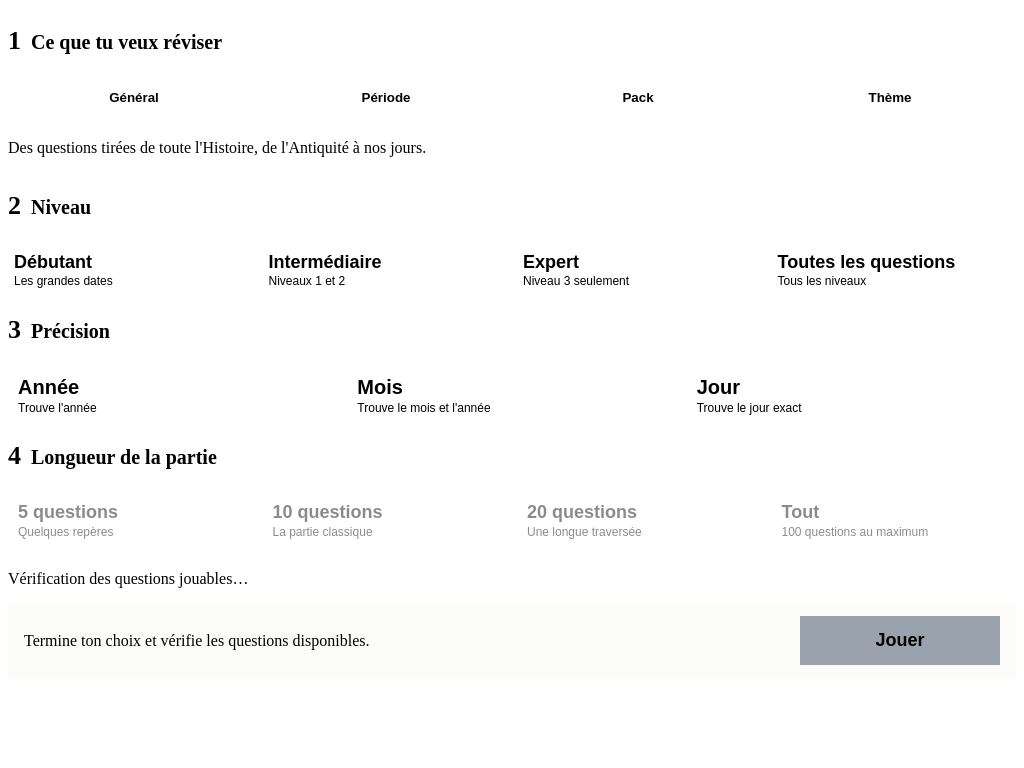
it: oublie immédiatement le décompte du niveau précédent et ignore une réponse réseau périmée
The width and height of the screenshot is (1024, 768).
Click the button "Intermédiaire Niveaux 1 et 2": (385, 271) [262, 244, 507, 298]
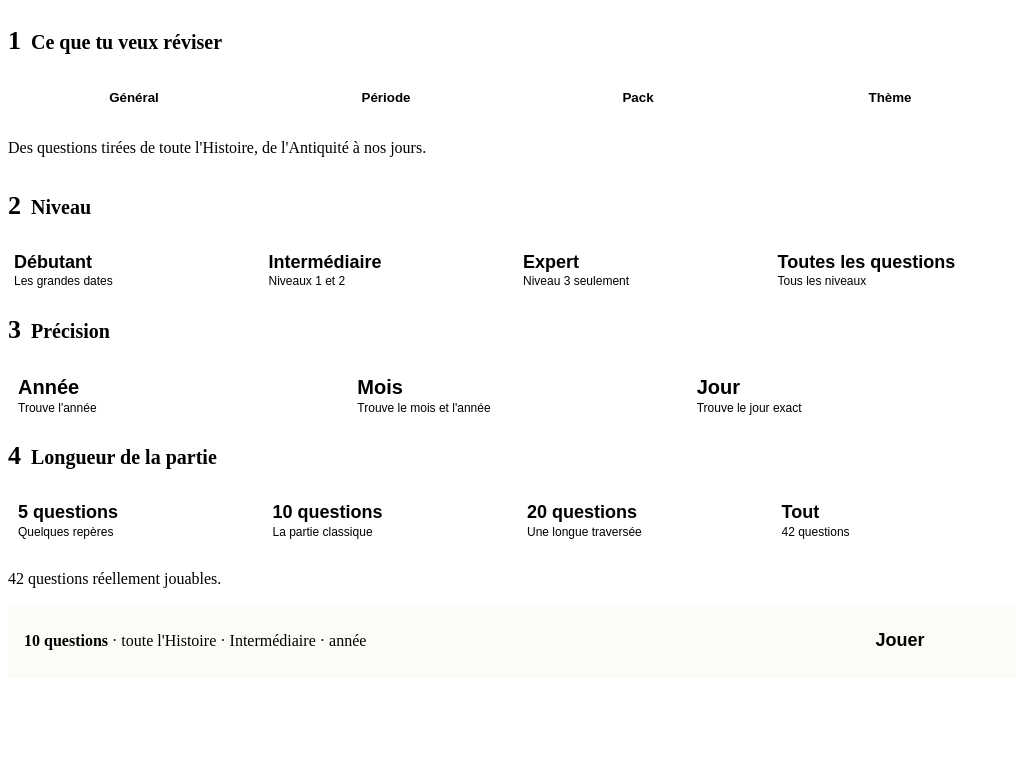
expect the text "42 questions réellement jouables." is shown: met, box [8, 570, 221, 587]
expect the button "20 questions Une longue traversée" is enabled: met, box [517, 494, 762, 548]
